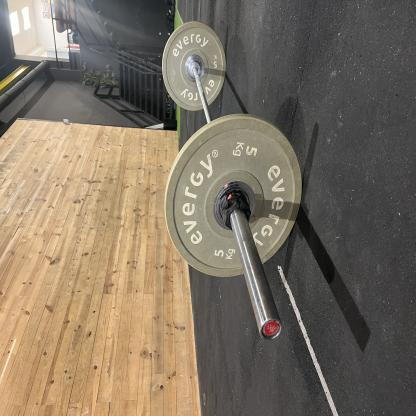barbell: (105, 221, 229, 406), (229, 216, 298, 303)
